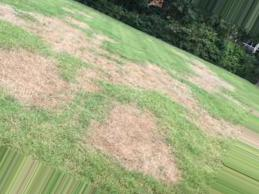patch: (102, 106, 137, 156), (3, 50, 31, 97), (136, 133, 164, 177), (31, 59, 52, 106), (139, 67, 163, 94), (196, 112, 226, 132), (46, 17, 60, 52), (63, 28, 80, 56), (50, 79, 64, 110), (164, 79, 183, 100), (197, 69, 215, 89), (136, 114, 153, 133), (80, 75, 94, 91)
